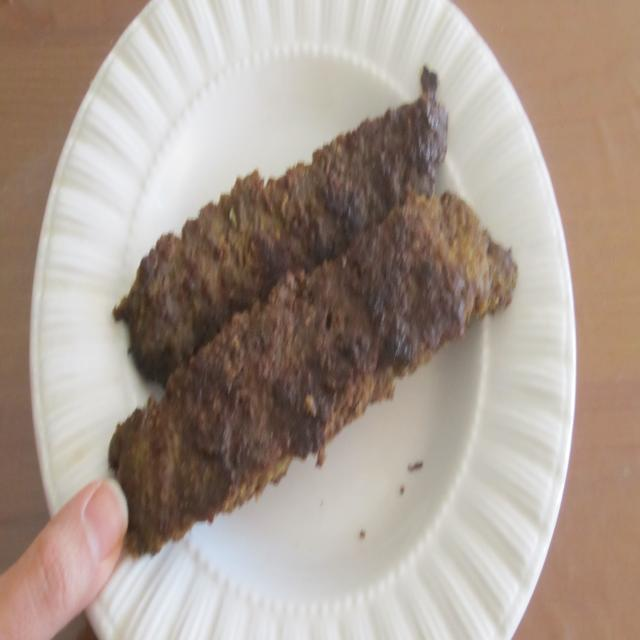cutlet: (103, 191, 521, 519)
